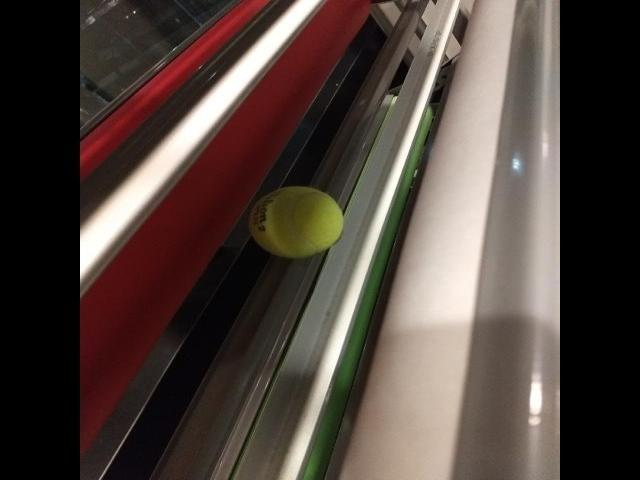tennis-ball: (248, 186, 345, 259)
